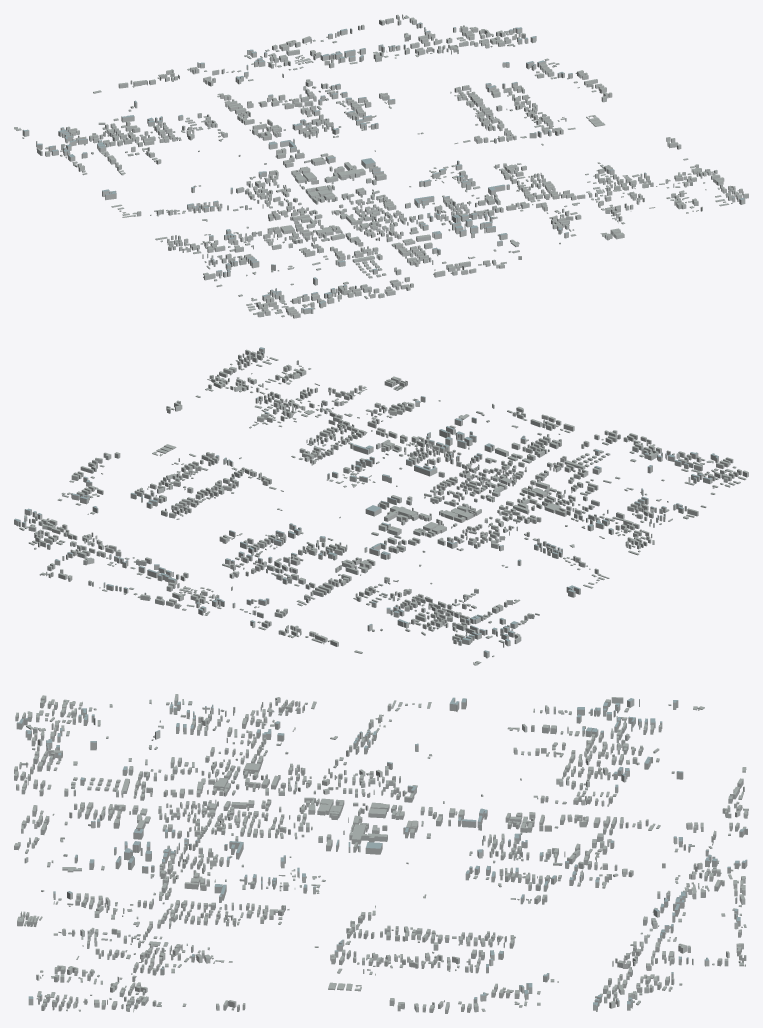
File: far.glb
3 views of the same model, one above another, from view 1: azimuth 30°, elevation 25°; view 2: azimuth 150°, elevation 25°; view 3: azimuth 270°, elevation 25° (orthographic). The views are drawn at different scales.
Bounding box in the file's own units: 2117 × 24.7 × 2092.
